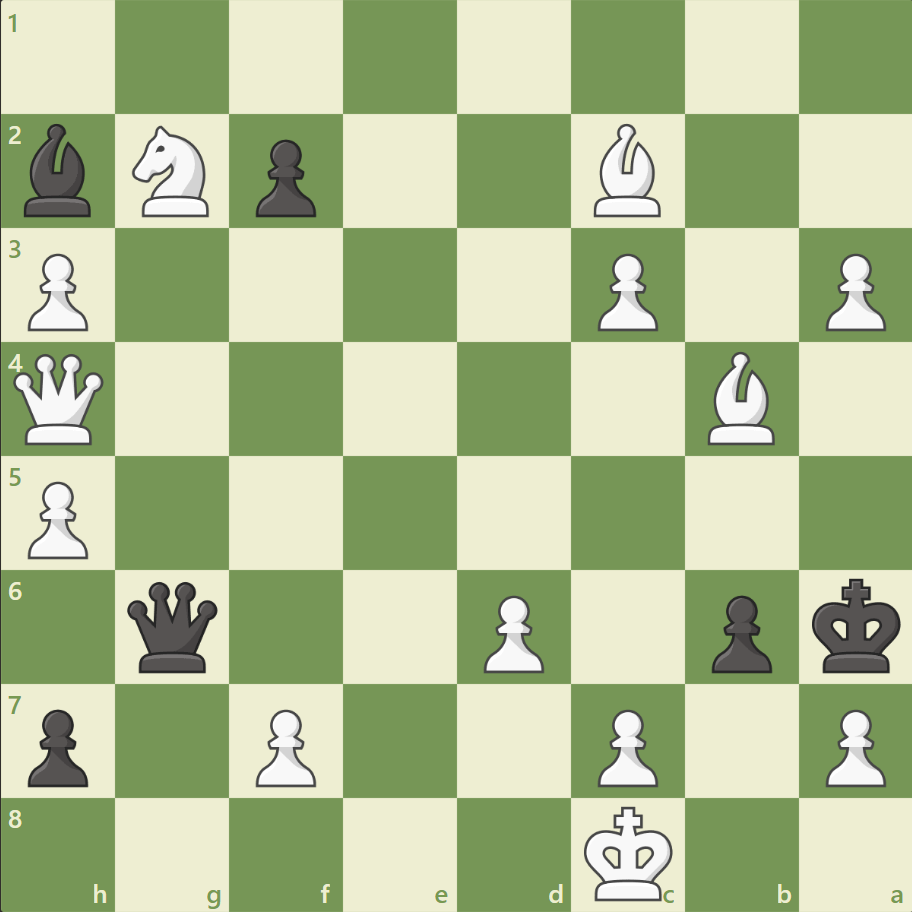B: (698, 347, 782, 449), (585, 120, 669, 222)
K: (579, 798, 679, 906)
N: (124, 121, 222, 223)
P: (247, 700, 322, 791), (474, 586, 549, 677), (20, 473, 95, 564), (20, 246, 95, 337), (815, 700, 889, 791), (588, 700, 662, 791), (815, 246, 889, 337), (588, 246, 662, 337)
Q: (10, 349, 109, 449)
b: (17, 120, 101, 222)
k: (806, 571, 906, 679)
p: (20, 700, 95, 791), (701, 586, 776, 677), (247, 132, 322, 223)
q: (124, 576, 223, 676)
